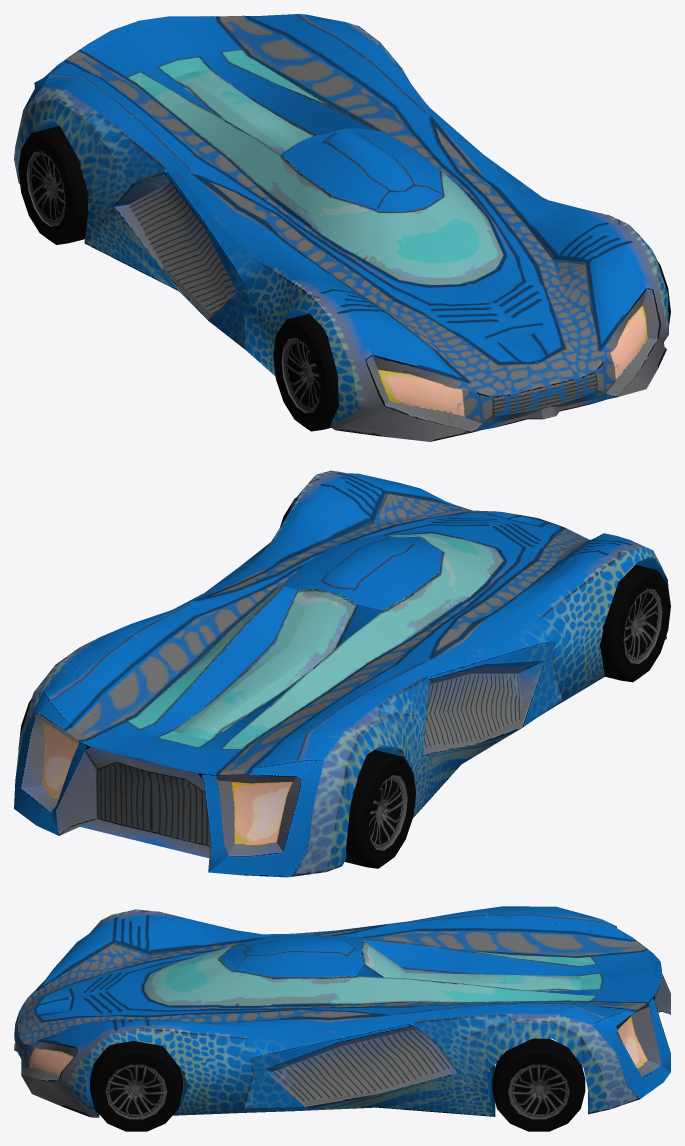
File: Bugatti.fbx
3 renders of one model, top to bottom at view 1: azimuth 30°, elevation 25°; view 2: azimuth 150°, elevation 25°; view 3: azimuth 270°, elevation 25°, orthographic. The views are drawn at different scales.
Parts seen in each view (by area): view 1: Bugatti, Bugatti_Teker; view 2: Bugatti, Bugatti_Teker; view 3: Bugatti, Bugatti_Teker.
Part boxes in pixels (<box>): Bugatti: <box>14,14,668,441</box>; Bugatti_Teker: <box>18,126,670,431</box>; Bugatti: <box>14,470,668,877</box>; Bugatti_Teker: <box>18,498,670,868</box>; Bugatti: <box>14,906,670,1117</box>; Bugatti_Teker: <box>90,1038,585,1131</box>.
Size of the model in its own units: 228 by 103 by 478.
2 materials, 2 textured.
